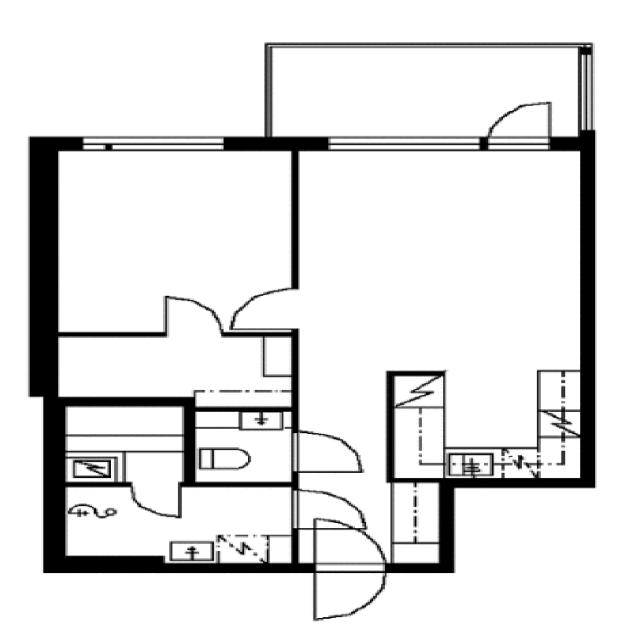door: (308, 521, 393, 622), (279, 425, 370, 477), (226, 282, 307, 335), (482, 97, 562, 150), (153, 292, 234, 341), (287, 488, 366, 533), (127, 482, 186, 518)
window: (70, 128, 238, 158), (318, 131, 483, 155), (568, 48, 602, 137)
zone: (288, 140, 590, 479), (49, 146, 302, 333), (54, 483, 306, 569), (46, 336, 300, 406), (51, 402, 189, 484), (190, 408, 296, 484)
